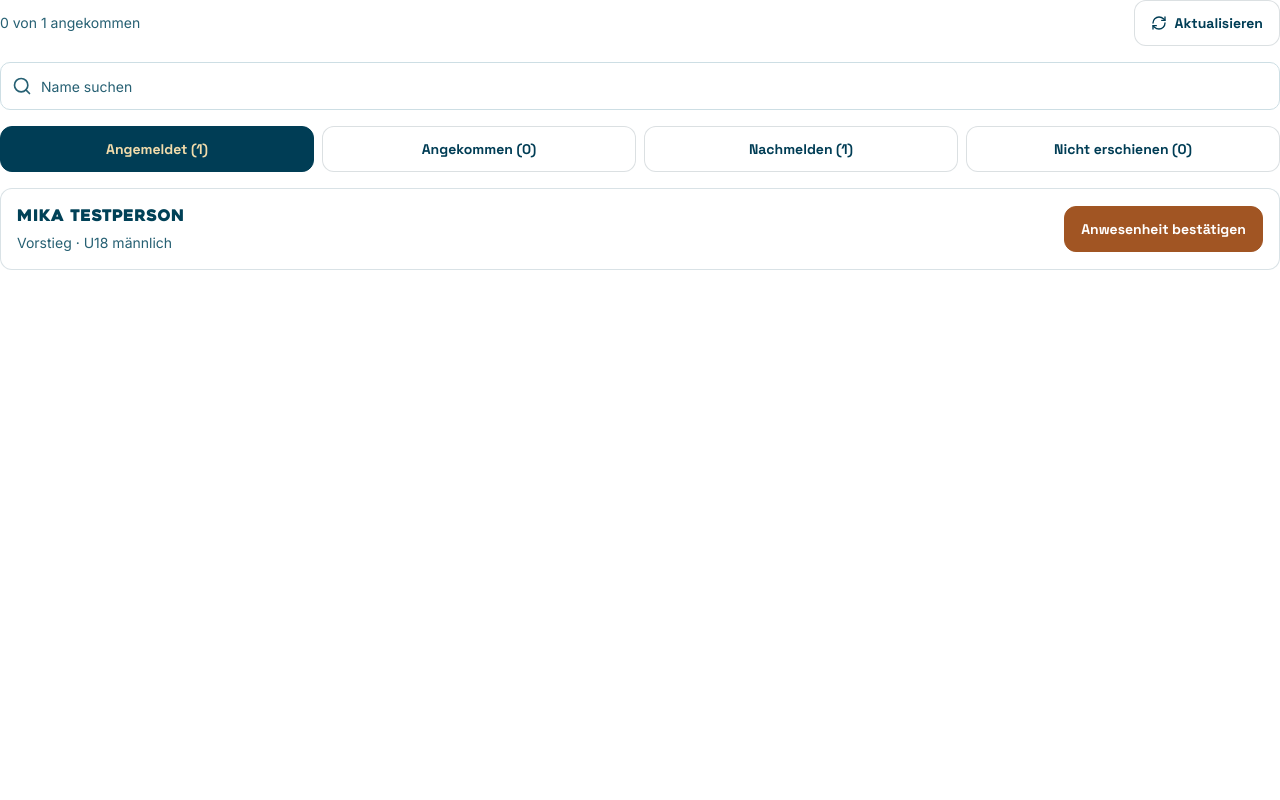
Scenario: event attendance desk › requires explicit review of the late entrant's name and approved class
What coordinates should you click on to do the following:
click the button "Nachmelden (1)"
I would click on:
 (801, 149)
Its box is 644,126 -> 958,172.
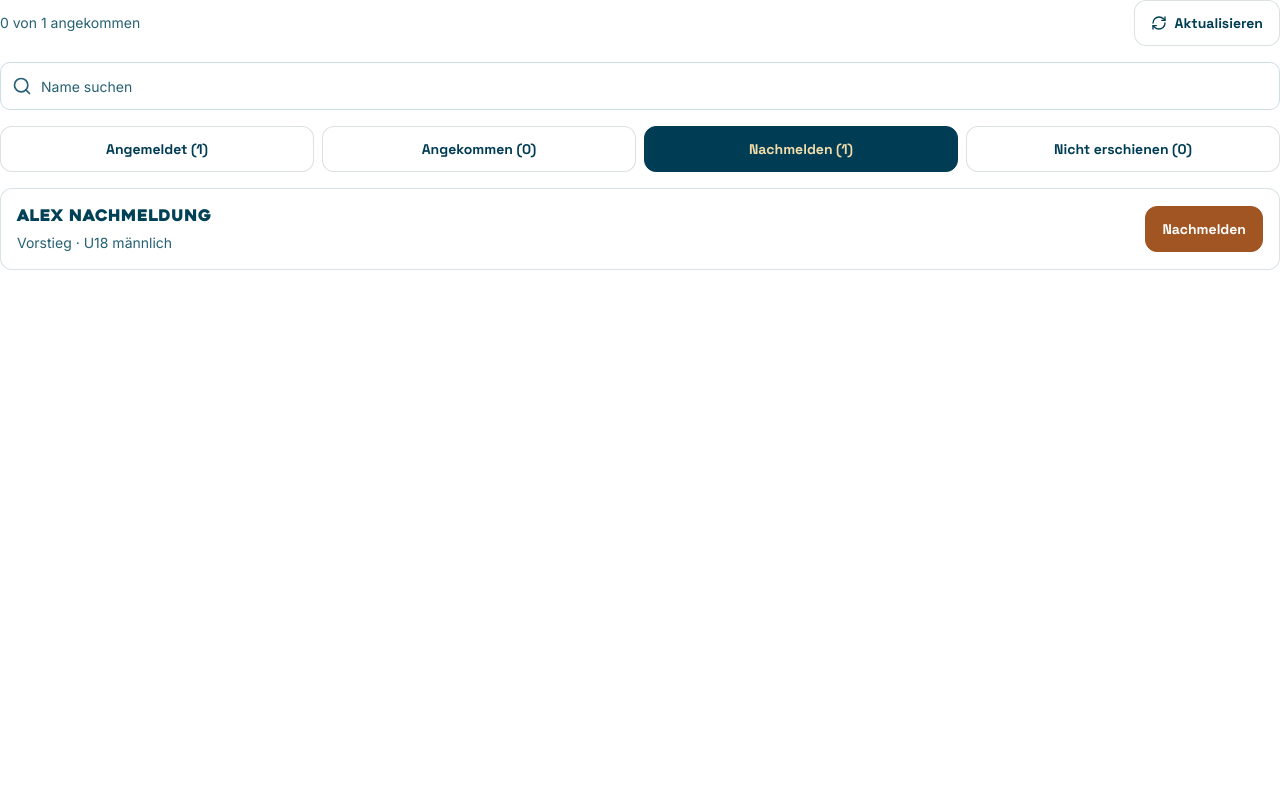
What coordinates should you click on to do the following:
click the button with aria-label "Alex Nachmeldung nachmelden"
I would click on:
 (1204, 229)
Its box is 1145,206 -> 1263,252.
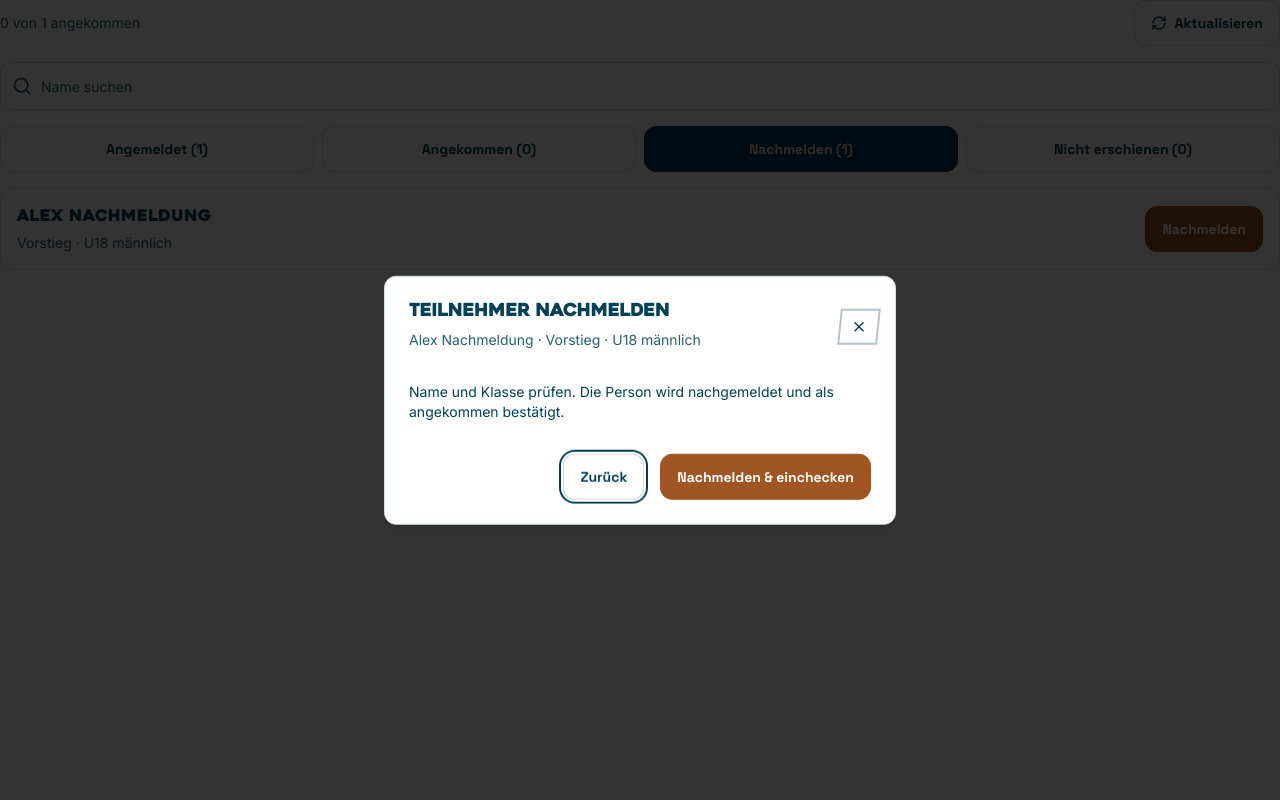
expect the dialog shows "Alex Nachmeldung · Vorstieg · U18 männlich": met, box 384,276 -> 896,524
What coordinates should you click on to do the following:
click the button "Nachmelden & einchecken"
I would click on:
 (766, 476)
Its box is 660,453 -> 871,499.
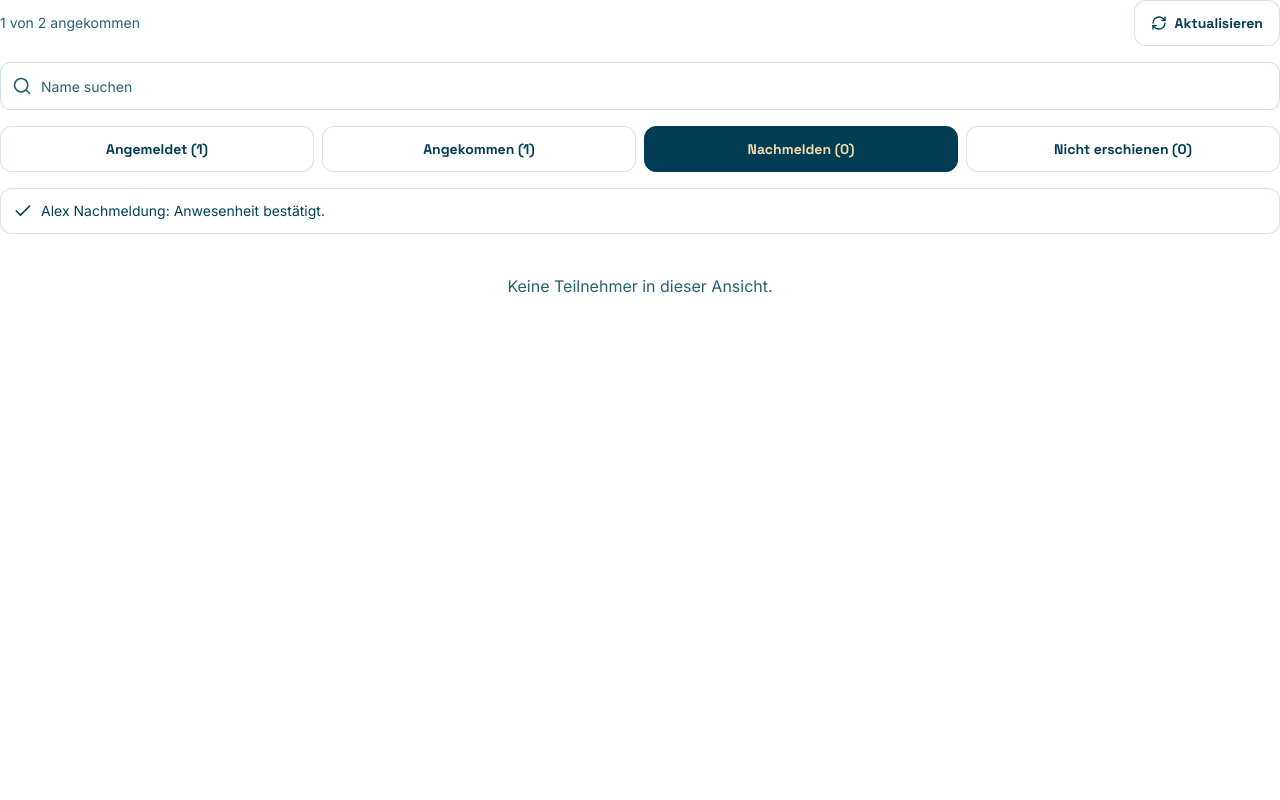
expect the text named "Angekommen: 1 von 2" is shown: met, box 0,13 -> 140,33
